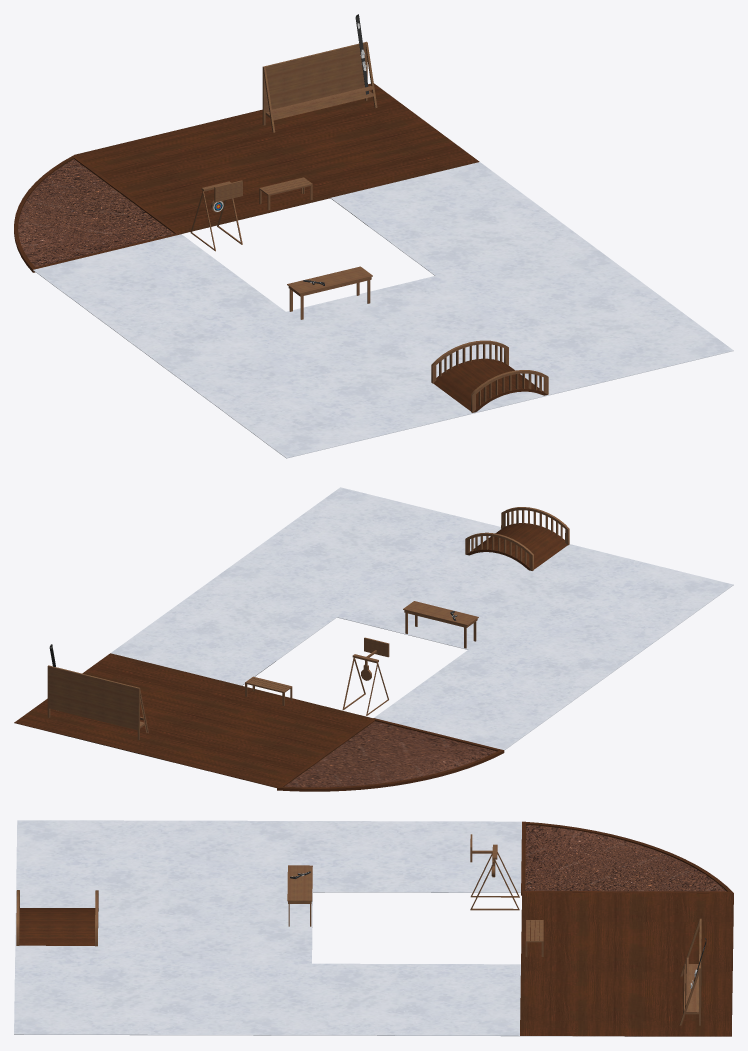
File: Biathlon.fbx
3 views of the same model, one above another, from view 1: azimuth 30°, elevation 25°; view 2: azimuth 150°, elevation 25°; view 3: azimuth 270°, elevation 25° (orthographic). The views are drawn at different scales.
Visible parts, largest first — view 1: Sol, PorteSkis, Pont, TableFusil, Cible; view 2: Sol, PorteSkis, Pont, TableFusil, Cible, Banc; view 3: Sol, Pont, PorteSkis, TableFusil, Cible, Banc.
Part boxes in pixels (x1,y1,x2,y2): Sol: (14, 83, 733, 458); PorteSkis: (262, 41, 377, 132); Pont: (431, 340, 548, 412); TableFusil: (287, 266, 372, 319); Cible: (190, 180, 242, 251); Sol: (14, 487, 733, 791); PorteSkis: (47, 665, 148, 739); Pont: (465, 507, 569, 570); TableFusil: (403, 601, 478, 648); Cible: (342, 637, 389, 715); Banc: (245, 676, 292, 705); Sol: (14, 820, 733, 1036); Pont: (16, 890, 98, 946); PorteSkis: (679, 918, 701, 1025); TableFusil: (287, 865, 312, 926); Cible: (470, 834, 519, 910); Banc: (525, 920, 543, 956).
Bounding box in the file's own units: 1216 × 229 × 1711.
